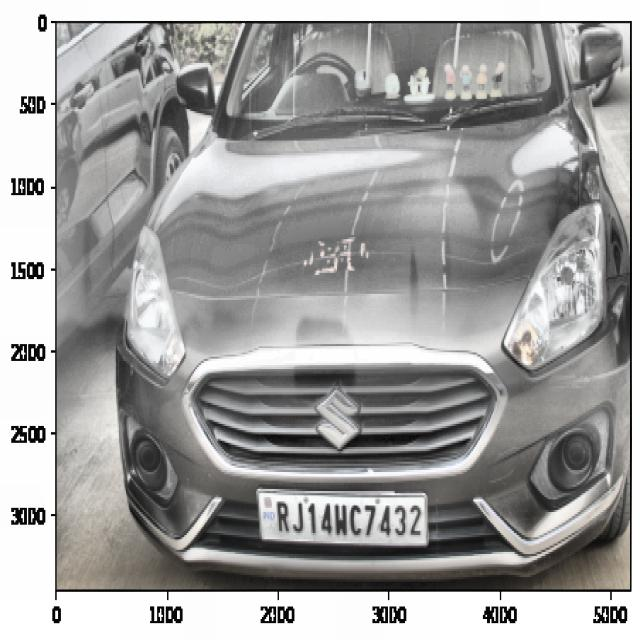license_plate: (269, 489, 426, 547)
